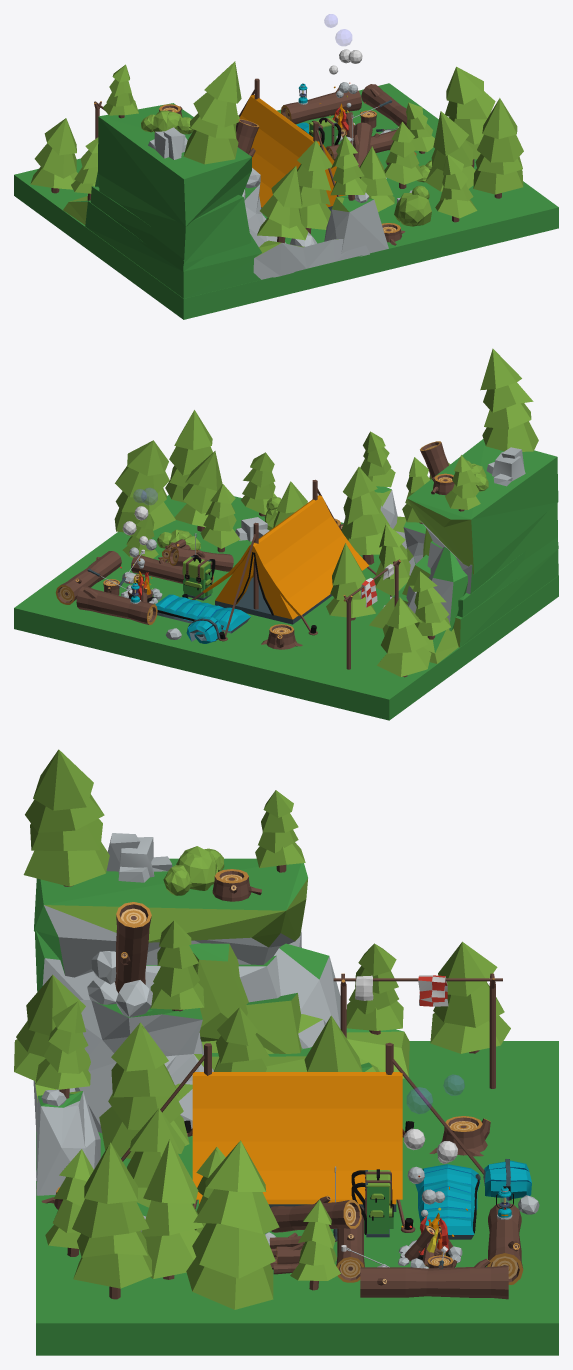
File: camp.glb
The picture shows the model from 3 angles, top to bottom: view 1: azimuth 30°, elevation 25°; view 2: azimuth 150°, elevation 25°; view 3: azimuth 270°, elevation 25°; orthographic projection. The views are drawn at different scales.
Visible parts, largest first — view 1: node_MeshObject-333854720-PolyPaper20, node_MeshObject528637952-PolyPaper9, node_MeshObject810303488-PolyPaper9, node_MeshObject-905933824-PolyPaper17, node_MeshObject238224384-PolyGlass24; view 2: node_MeshObject-333854720-PolyPaper20, node_MeshObject810303488-PolyPaper9, node_MeshObject528637952-PolyPaper9, node_MeshObject-905933824-PolyPaper17; view 3: node_MeshObject-333854720-PolyPaper20, node_MeshObject810303488-PolyPaper9, node_MeshObject-905933824-PolyPaper17, node_MeshObject528637952-PolyPaper9, node_MeshObject238224384-PolyGlass24.
Part boxes in pixels (<box>): node_MeshObject-333854720-PolyPaper20: <box>14,49,558,319</box>; node_MeshObject528637952-PolyPaper9: <box>72,92,373,298</box>; node_MeshObject810303488-PolyPaper9: <box>30,64,486,253</box>; node_MeshObject-905933824-PolyPaper17: <box>94,78,409,210</box>; node_MeshObject238224384-PolyGlass24: <box>300,14,351,95</box>; node_MeshObject-333854720-PolyPaper20: <box>14,348,558,720</box>; node_MeshObject810303488-PolyPaper9: <box>114,431,488,677</box>; node_MeshObject528637952-PolyPaper9: <box>196,382,558,652</box>; node_MeshObject-905933824-PolyPaper17: <box>55,479,392,669</box>; node_MeshObject-333854720-PolyPaper20: <box>33,749,558,1355</box>; node_MeshObject810303488-PolyPaper9: <box>14,790,531,1309</box>; node_MeshObject-905933824-PolyPaper17: <box>121,973,539,1299</box>; node_MeshObject528637952-PolyPaper9: <box>23,794,403,1198</box>; node_MeshObject238224384-PolyGlass24: <box>407,1074,508,1205</box>.
Size of the model in its own units: 6.38 by 3.73 by 5.
